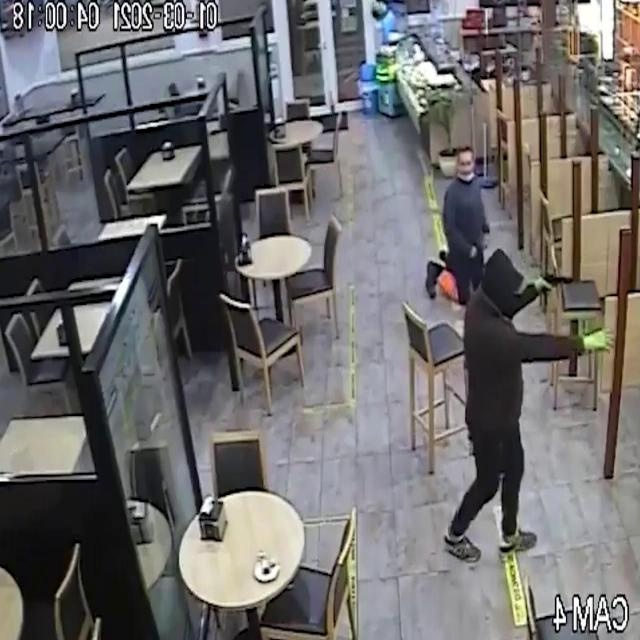gun: (533, 253, 581, 319)
